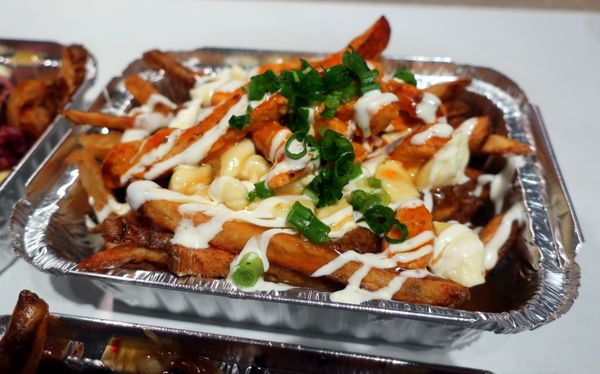sandwich: (10, 14, 575, 336)
